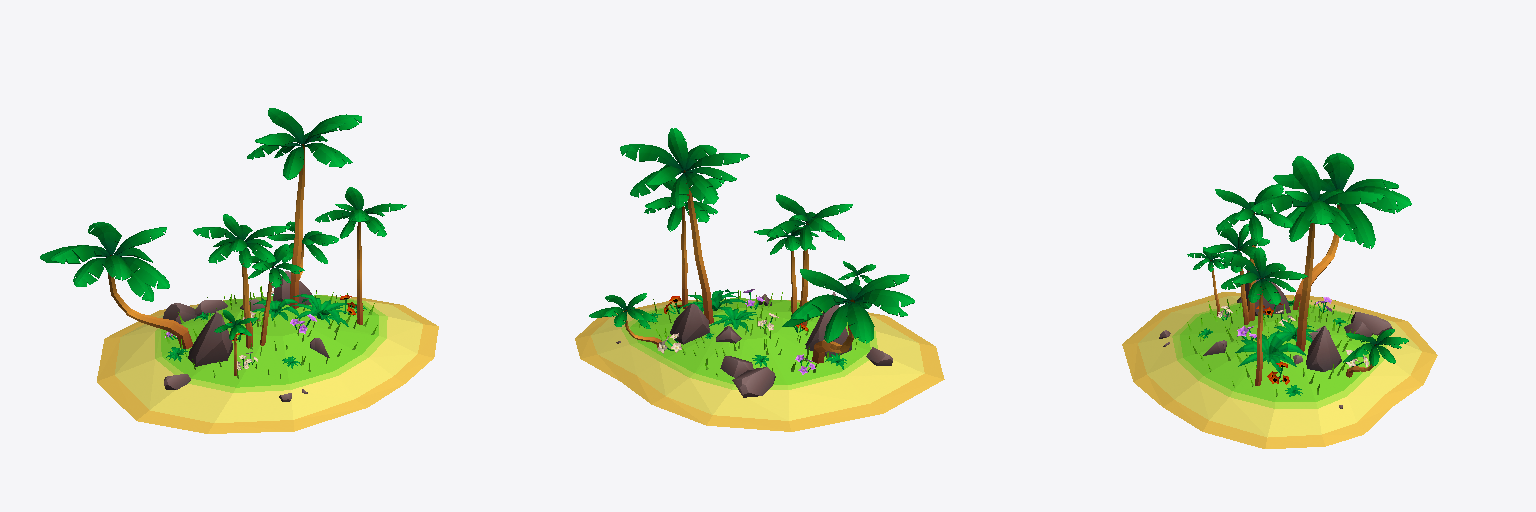
The picture shows the model from 3 angles: view 1: azimuth 30°, elevation 25°; view 2: azimuth 150°, elevation 25°; view 3: azimuth 270°, elevation 25°; orthographic projection.
Visible parts, largest first — view 1: Island_Main, M_Island, Palm_Tree_B_0111, PALM_TREE_A_TRUNK, Palm_Tree_B_0106, Palm_Tree_B_0101, Palm_Tree_B_0109, Palm_Tree_B_0102, Leaf_Palm_Tree_A_004, Leaf_Palm_Tree_A_008, Palm_Tree_B_0108; view 2: Island_Main, M_Island, PALM_TREE_A_TRUNK, Leaf_Palm_Tree_A_010, Palm_Tree_B_0103, Palm_Tree_B_0109, Leaf_Palm_Tree_A_005, Palm_Tree_B_0101, Palm_Tree_B_0108, Palm_Tree_B_0110, Leaf_Palm_Tree_A_009, Palm_Tree_B_0111 (+1 smaller); view 3: Island_Main, M_Island, PALM_TREE_A_TRUNK, Palm_Tree_B_0107, Leaf_Palm_Tree_A_007, Palm_Tree_B_0101, Palm_Tree_B_0109, Leaf_Palm_Tree_A_004, Leaf_Palm_Tree_A_008, Palm_Tree_B_0111, Leaf_Palm_Tree_A_010.
Boxes of the visible parts, x1,y1,x2,y2 form: Island_Main: [97, 295, 438, 433]; M_Island: [163, 271, 366, 401]; Palm_Tree_B_0111: [108, 255, 192, 348]; PALM_TREE_A_TRUNK: [289, 144, 304, 308]; Palm_Tree_B_0106: [121, 257, 169, 288]; Palm_Tree_B_0101: [51, 245, 107, 263]; Palm_Tree_B_0109: [88, 222, 121, 255]; Palm_Tree_B_0102: [73, 258, 105, 286]; Leaf_Palm_Tree_A_004: [268, 108, 303, 143]; Leaf_Palm_Tree_A_008: [304, 143, 345, 167]; Palm_Tree_B_0108: [114, 227, 166, 254]; Island_Main: [575, 298, 944, 431]; M_Island: [616, 289, 892, 397]; PALM_TREE_A_TRUNK: [683, 170, 713, 323]; Leaf_Palm_Tree_A_010: [620, 144, 682, 170]; Palm_Tree_B_0103: [847, 302, 874, 343]; Palm_Tree_B_0109: [791, 294, 850, 319]; Leaf_Palm_Tree_A_005: [685, 172, 718, 204]; Palm_Tree_B_0101: [854, 289, 914, 306]; Palm_Tree_B_0108: [800, 269, 850, 299]; Palm_Tree_B_0110: [824, 302, 851, 342]; Leaf_Palm_Tree_A_009: [668, 128, 687, 170]; Palm_Tree_B_0111: [812, 299, 854, 363]; Island_Main: [1122, 292, 1437, 448]; M_Island: [1159, 266, 1392, 408]; PALM_TREE_A_TRUNK: [1296, 220, 1314, 351]; Palm_Tree_B_0107: [1340, 204, 1375, 248]; Leaf_Palm_Tree_A_007: [1292, 156, 1320, 200]; Palm_Tree_B_0101: [1323, 153, 1353, 189]; Palm_Tree_B_0109: [1352, 186, 1411, 209]; Leaf_Palm_Tree_A_004: [1323, 190, 1385, 204]; Leaf_Palm_Tree_A_008: [1251, 195, 1309, 213]; Palm_Tree_B_0111: [1293, 205, 1340, 309]; Leaf_Palm_Tree_A_010: [1305, 200, 1335, 224].
Bounding box in the file's own units: 9.57 × 5.64 × 7.46.
14 materials, 13 textured.